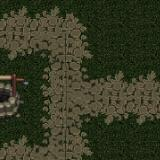Hide: (0, 52, 43, 139)
